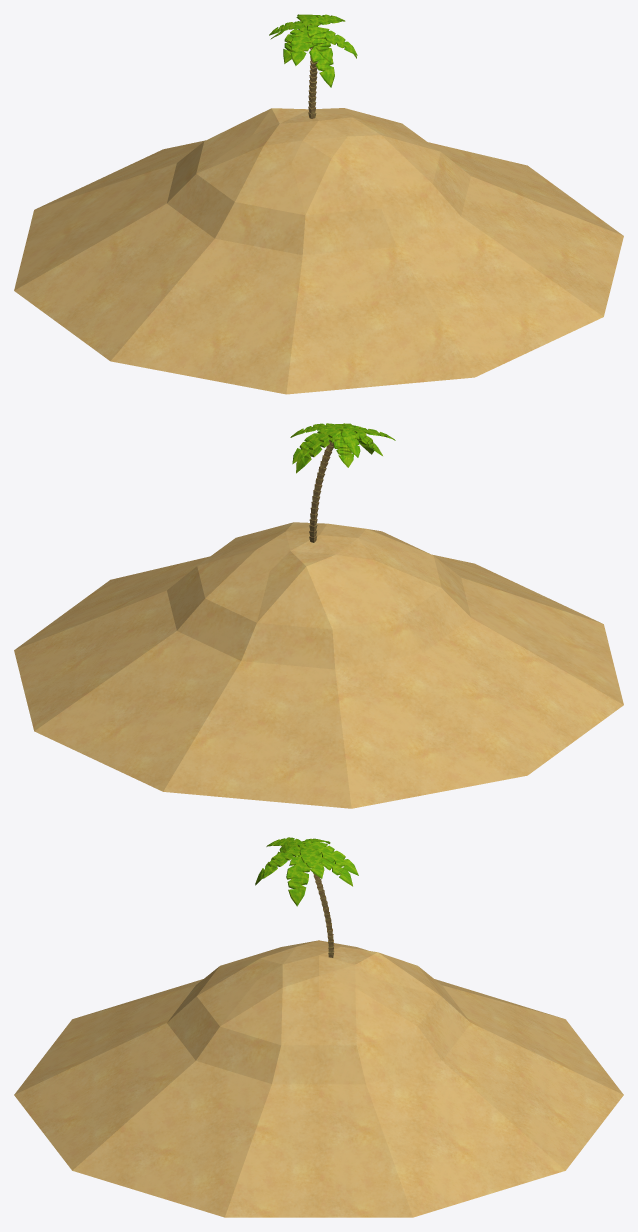
Rendered from island.glb.
3 renders of one model, top to bottom at view 1: azimuth 30°, elevation 25°; view 2: azimuth 150°, elevation 25°; view 3: azimuth 270°, elevation 25°, orthographic. The views are drawn at different scales.
Visible parts, largest first — view 1: Island, Curve.003; view 2: Island, Curve.003, Trunk; view 3: Island, Curve.003, Trunk.
Boxes of the visible parts, <box> form: Island: <box>14,108,623,394</box>; Curve.003: <box>269,14,357,87</box>; Island: <box>14,522,623,808</box>; Curve.003: <box>290,423,395,473</box>; Trunk: <box>309,440,335,542</box>; Island: <box>14,940,623,1217</box>; Curve.003: <box>255,837,358,906</box>; Trunk: <box>313,873,334,957</box>.
Size of the model in its own units: 30.62 by 14.24 by 32.2.
Materials: 3 (3 with a texture image).
